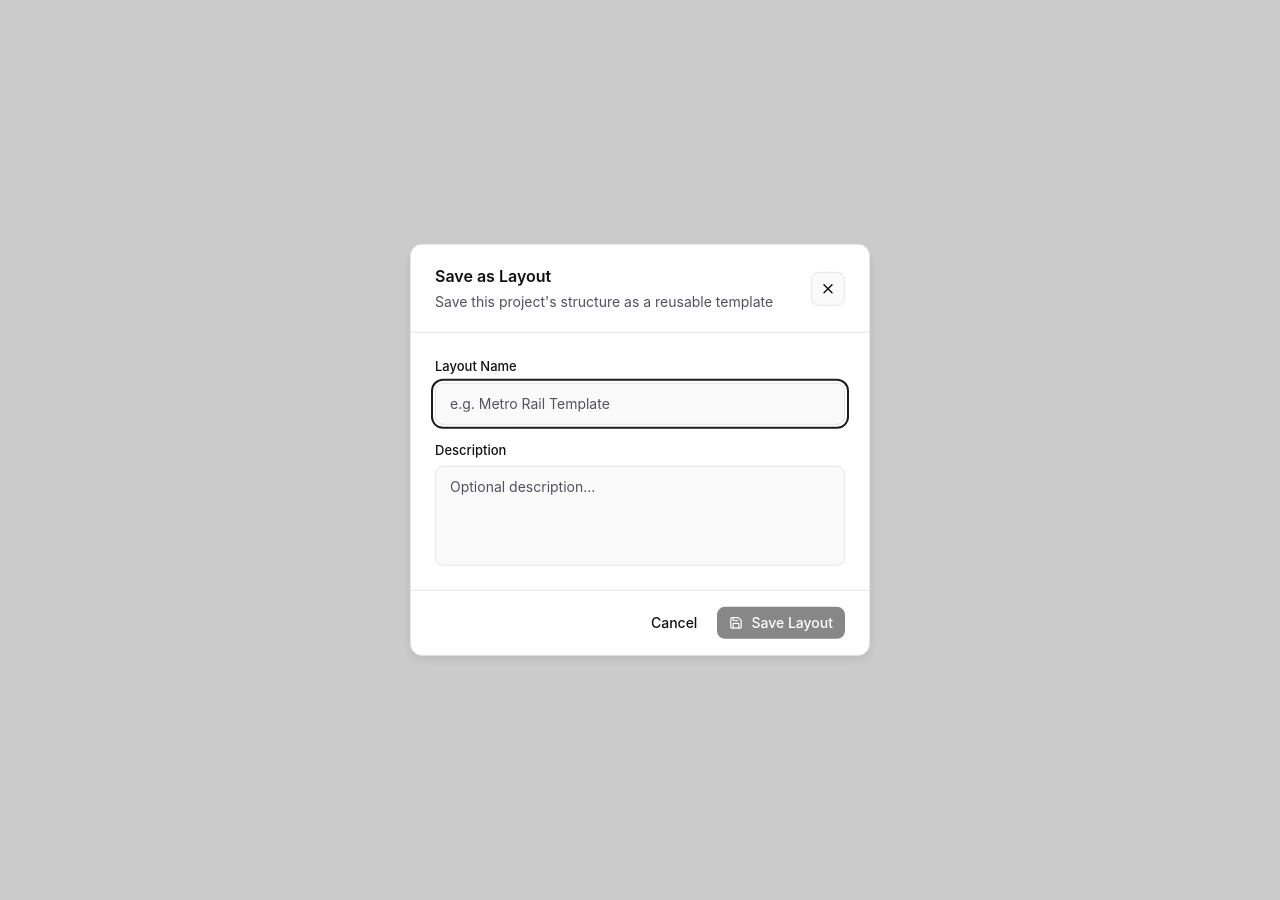
Scenario: SaveLayoutModal › enables save button when name is entered
The width and height of the screenshot is (1280, 900).
In the field labelled "Layout Name": (640, 404) [435, 383, 845, 425], type "My Layout"
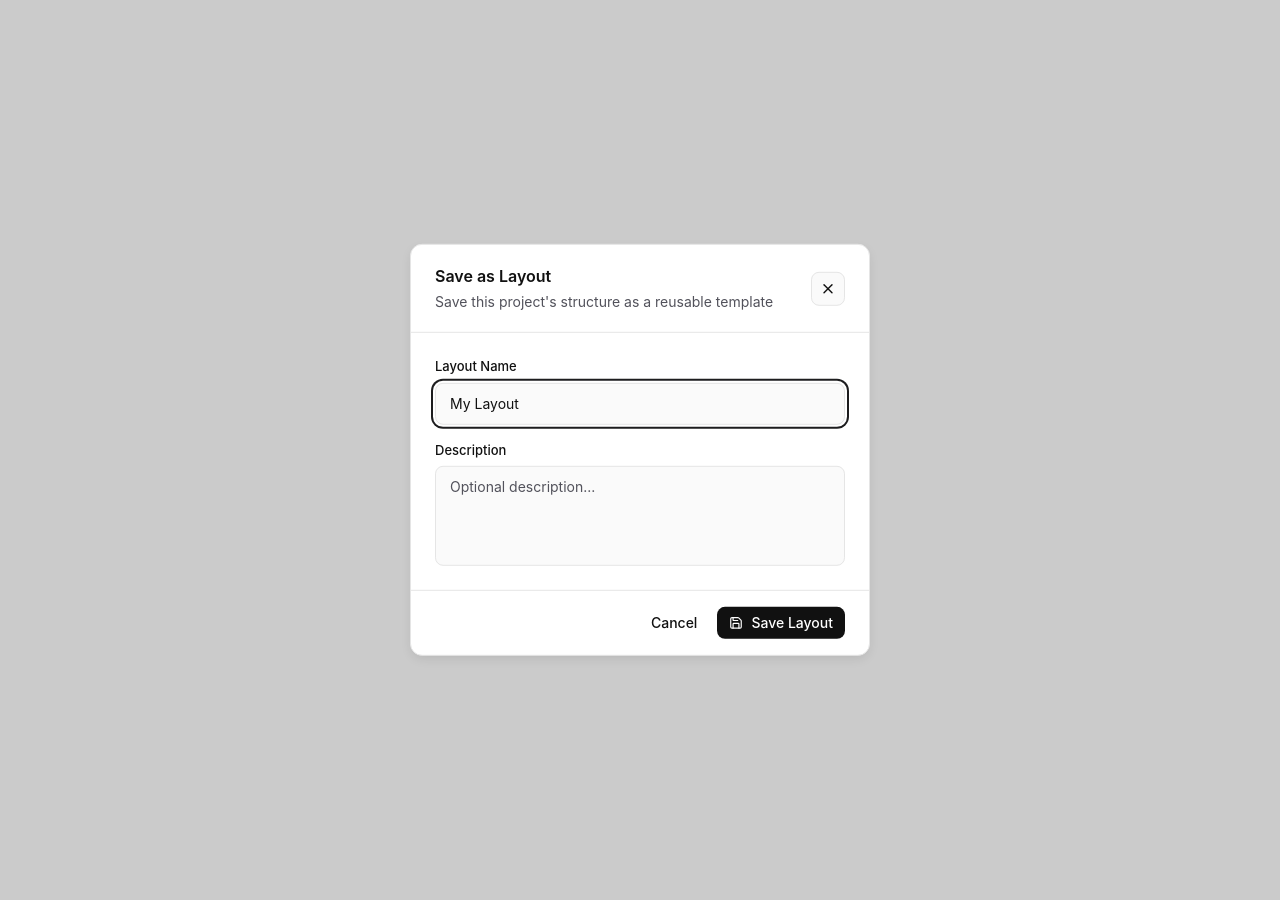
expect the button "Save Layout" is enabled: met, box [717, 607, 845, 639]
